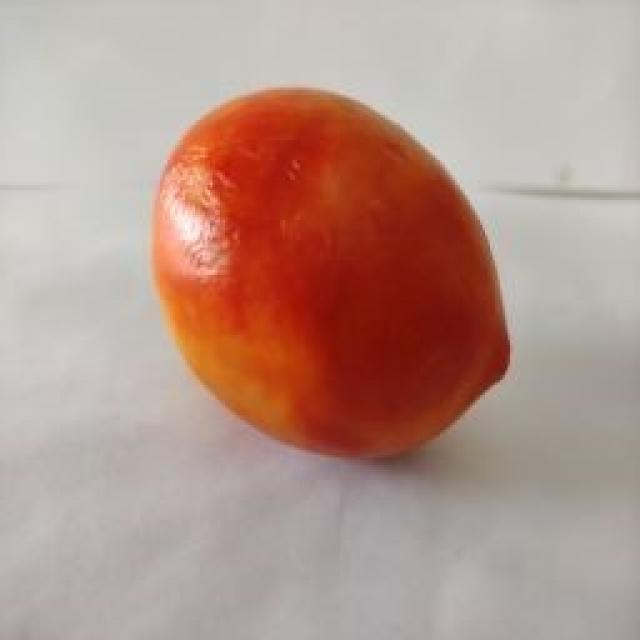Ripe: (145, 79, 514, 466)
